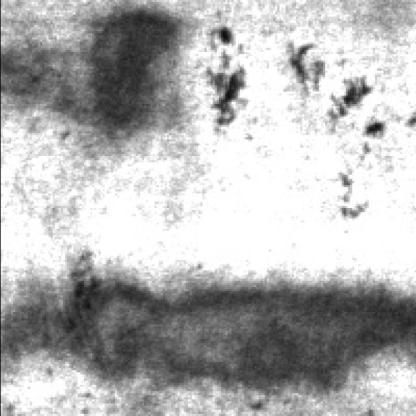patches: (6, 279, 416, 395), (88, 11, 194, 144), (2, 37, 96, 117)
